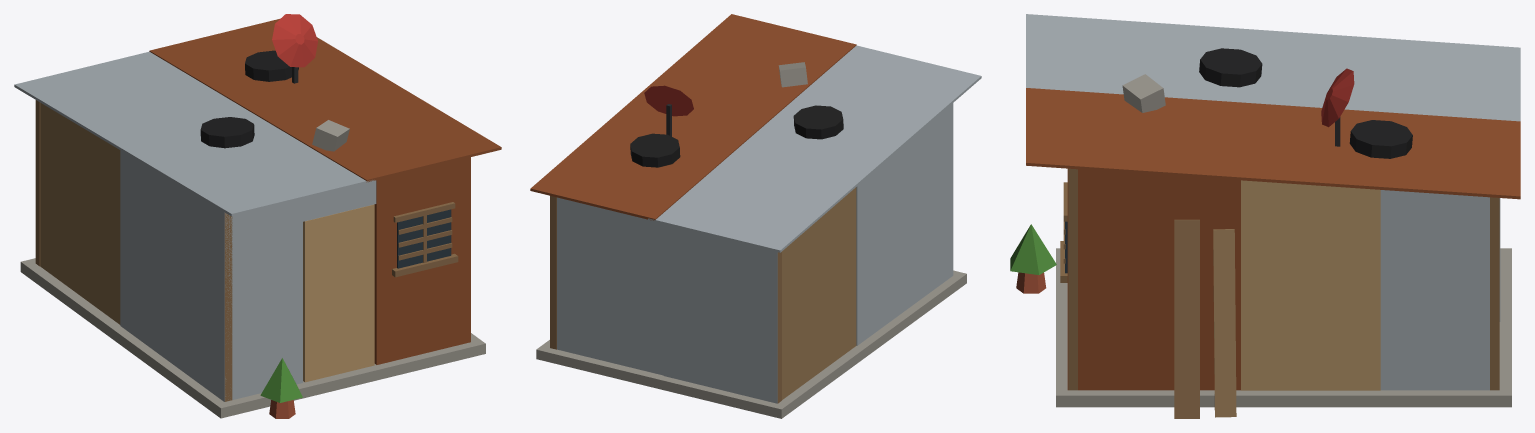
The model's file is BAY_I_TinShack_I.glb.
3 views of the same model, side by side, from view 1: azimuth 30°, elevation 25°; view 2: azimuth 150°, elevation 25°; view 3: azimuth 270°, elevation 25° (orthographic). The views are drawn at different scales.
Visible parts, largest first — view 1: BAY_I_TinShack_I; view 2: BAY_I_TinShack_I; view 3: BAY_I_TinShack_I.
Part boxes in pixels (x1,y1,x2,y2): BAY_I_TinShack_I: (14, 14, 501, 418); BAY_I_TinShack_I: (530, 14, 981, 418); BAY_I_TinShack_I: (1010, 14, 1520, 418).
Size of the model in its own units: 3.57 by 3.05 by 4.74.
Materials: 1 (1 with a texture image).
